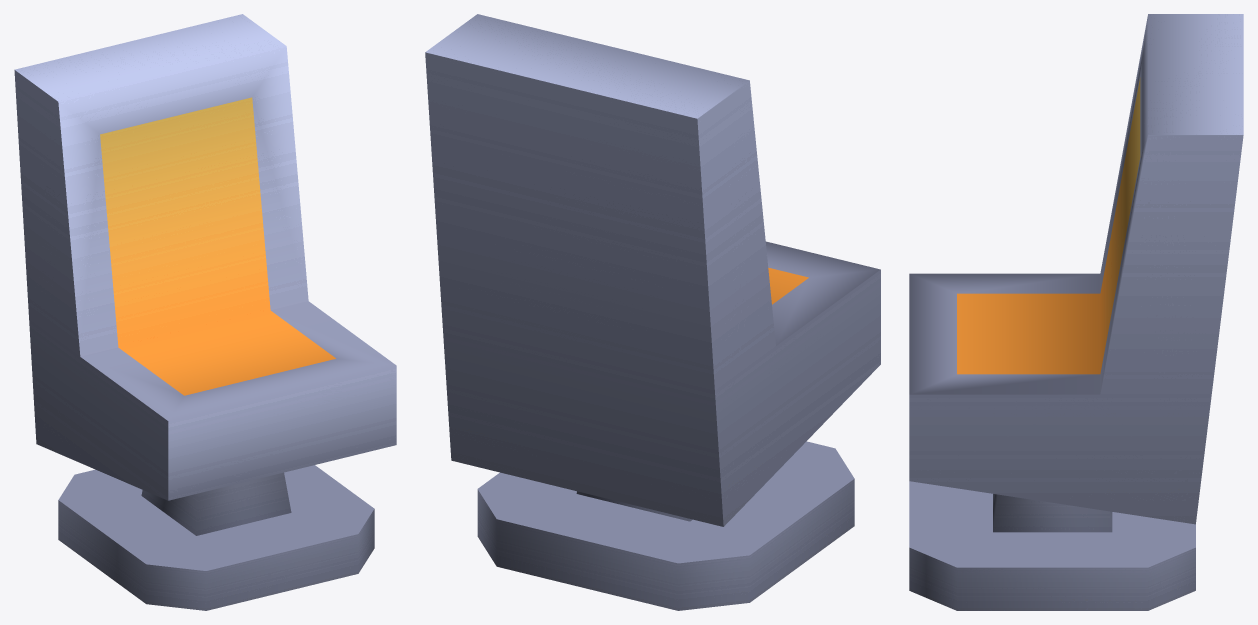
Rendered from chair-cushion.glb.
3 renders of one model, left to right at view 1: azimuth 30°, elevation 25°; view 2: azimuth 150°, elevation 25°; view 3: azimuth 270°, elevation 25°, orthographic. The views are drawn at different scales.
Parts seen in each view (by area): view 1: chair-cushion; view 2: chair-cushion; view 3: chair-cushion.
Part boxes in pixels (x1,y1,x2,y2): chair-cushion: (14,14,396,610); chair-cushion: (425,14,880,610); chair-cushion: (909,14,1243,610).
Bounding box in the file's own units: 0.3 × 0.55 × 0.35.
1 material, 1 textured.
